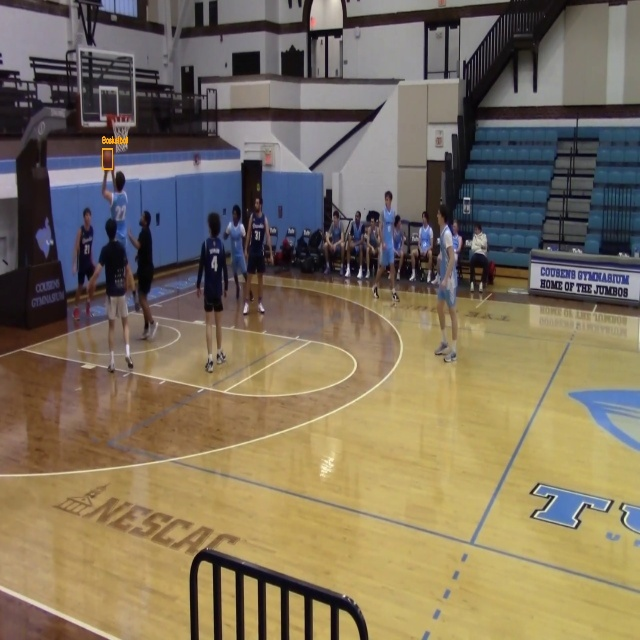Basketball: (102, 149, 113, 169)
